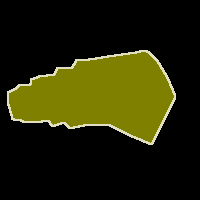tie: (8, 50, 175, 144)
